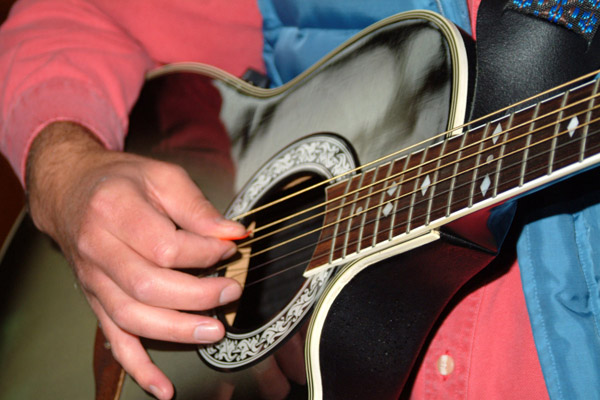guitar: (3, 11, 600, 391)
